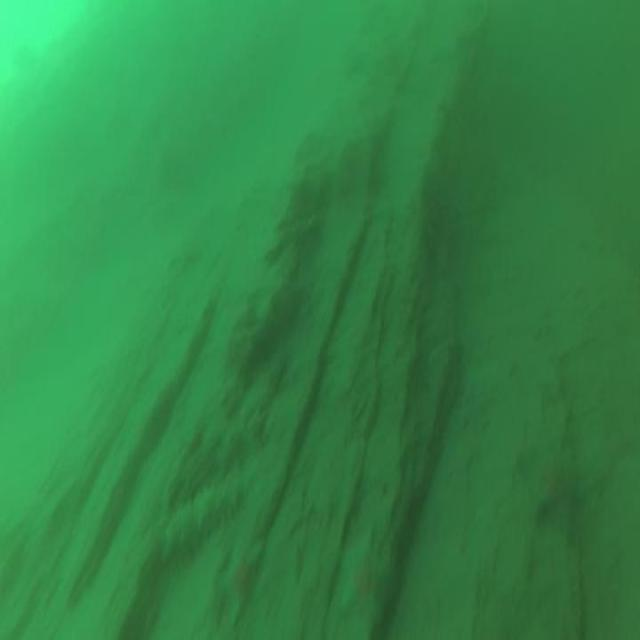holothurian: (159, 468, 261, 554)
starfish: (525, 446, 591, 545), (332, 526, 390, 616), (218, 534, 257, 624)
